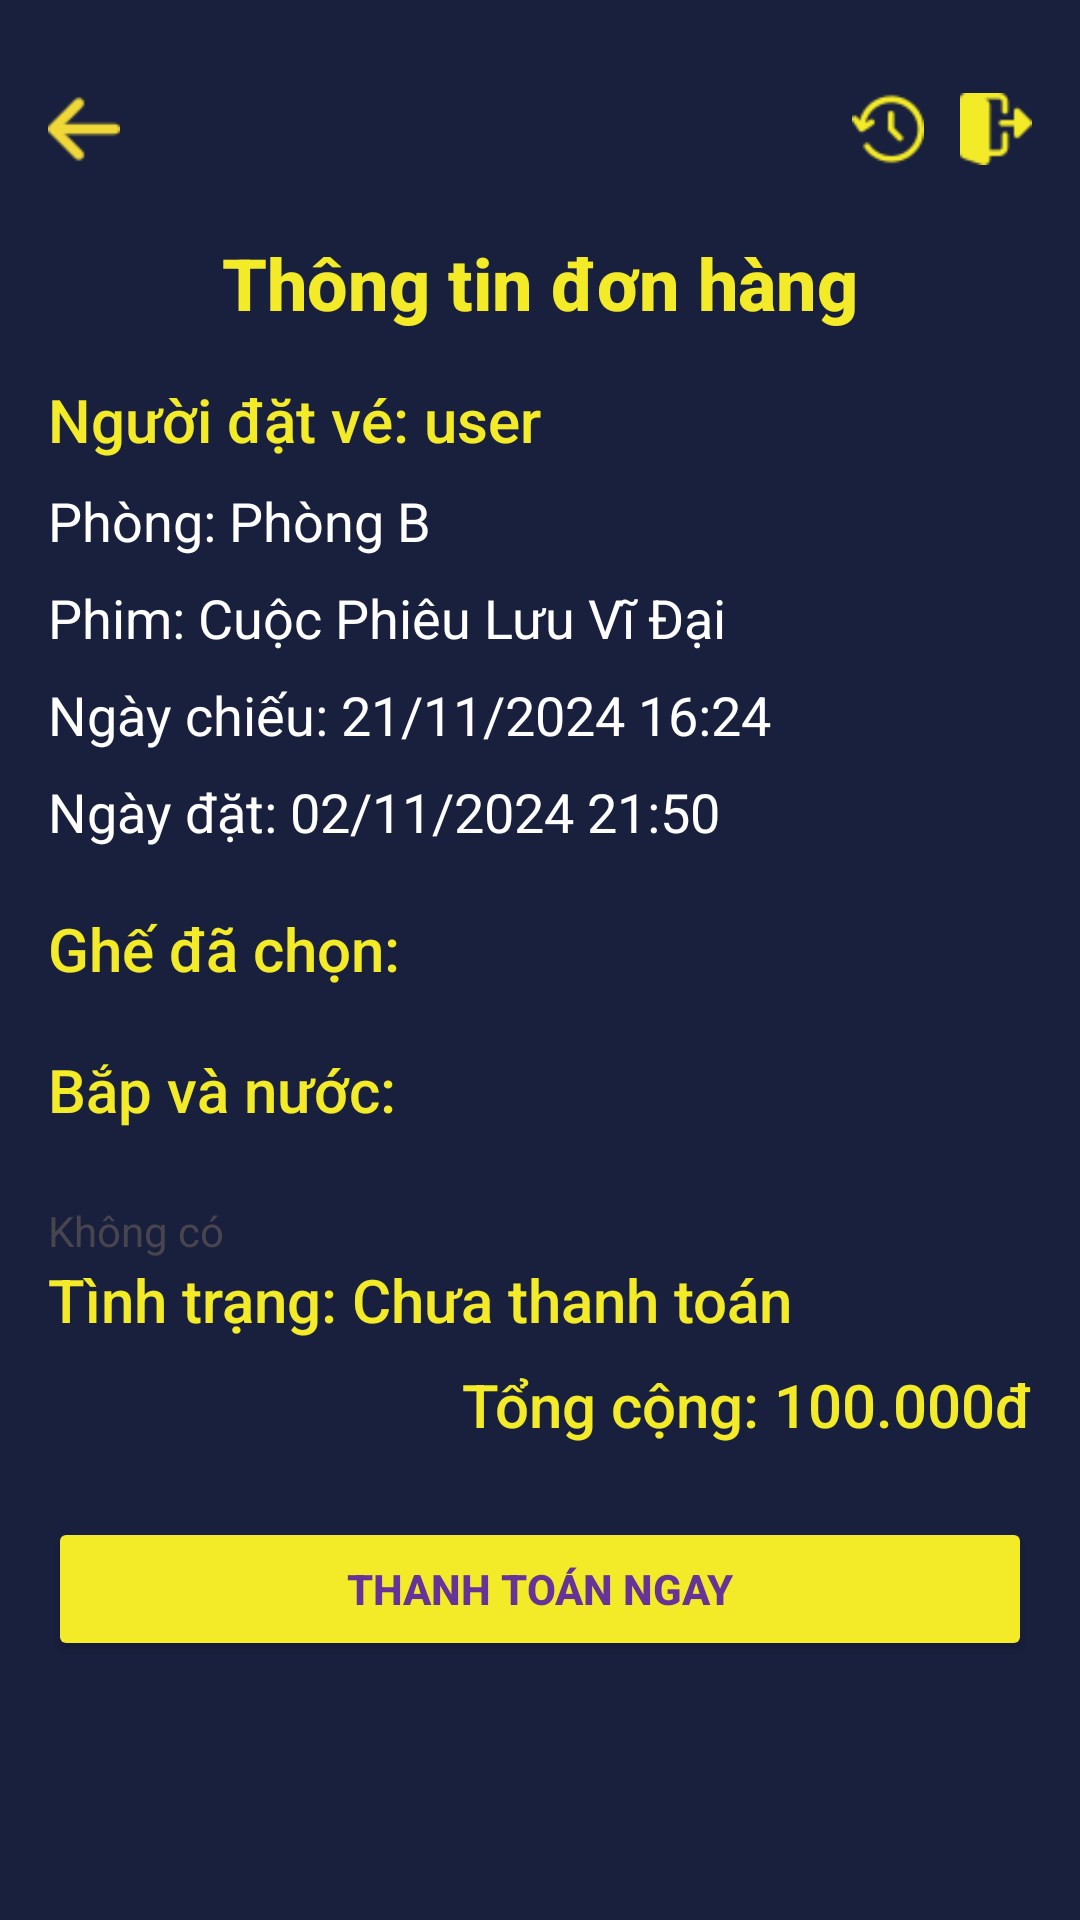

Where to tap for icons on this 1080px×1920px app screen, as (x=x, y=y):
arrow back: (x=84, y=129)
history: (x=888, y=129)
sign out: (x=996, y=129)
